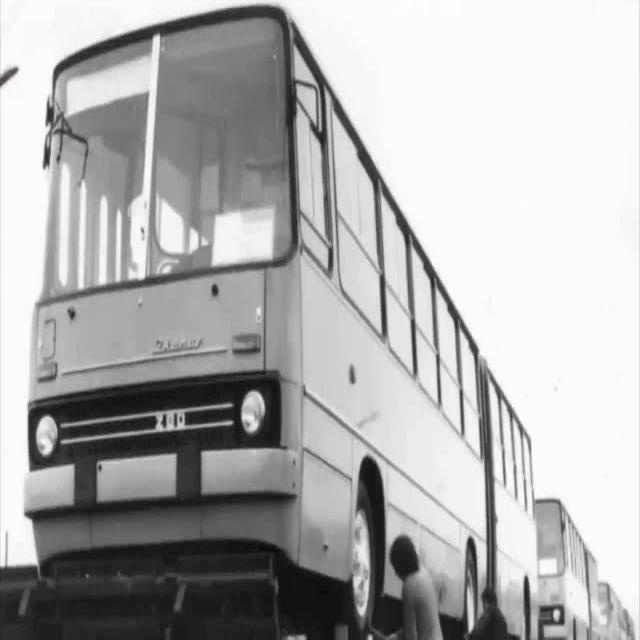truck: (9, 2, 544, 638), (537, 488, 606, 640)
